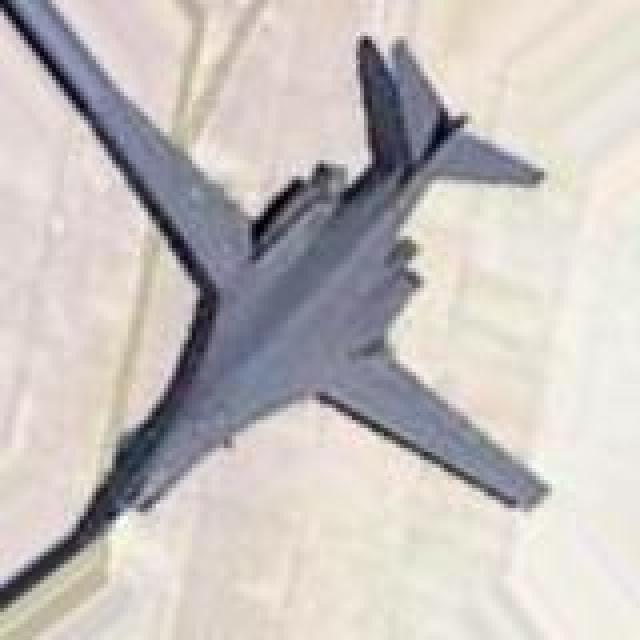B-1_TopDown: (0, 0, 556, 624)
